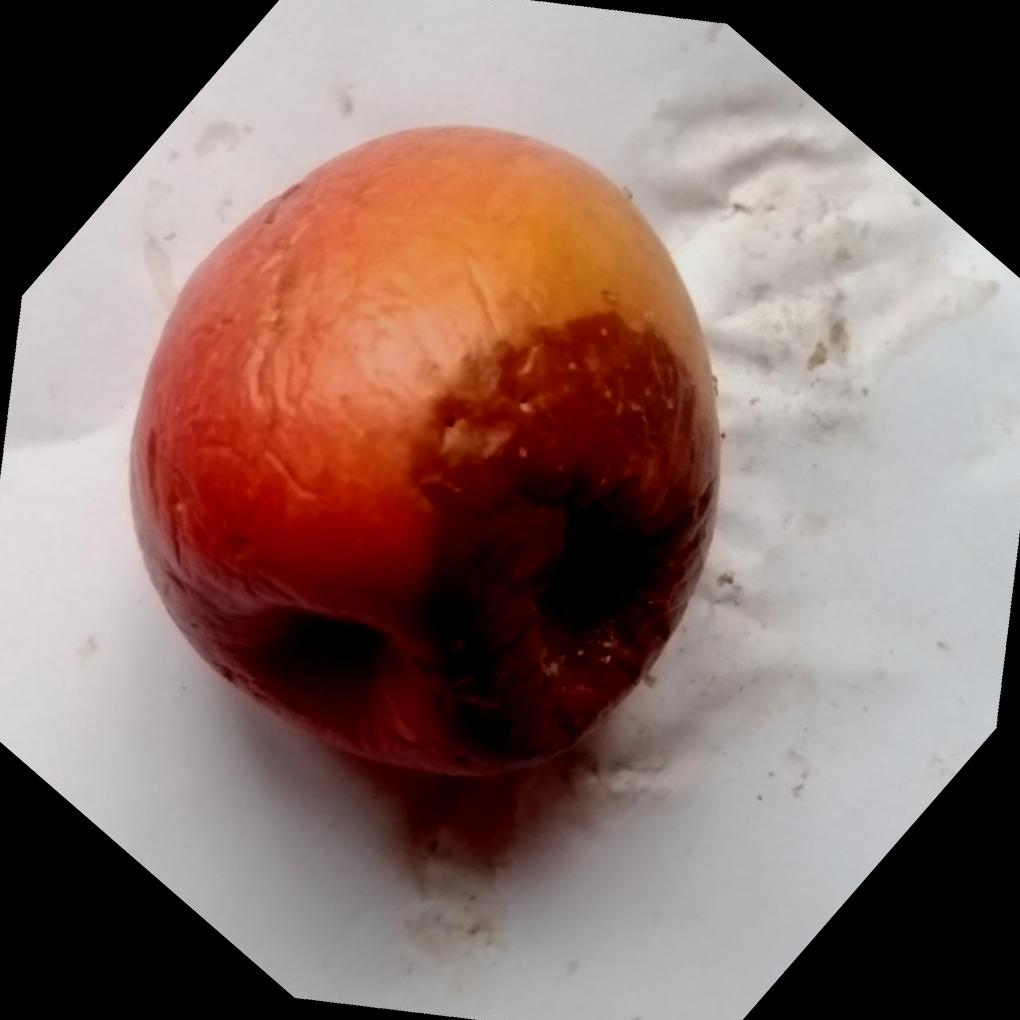FreshOrange: (127, 119, 725, 780)
